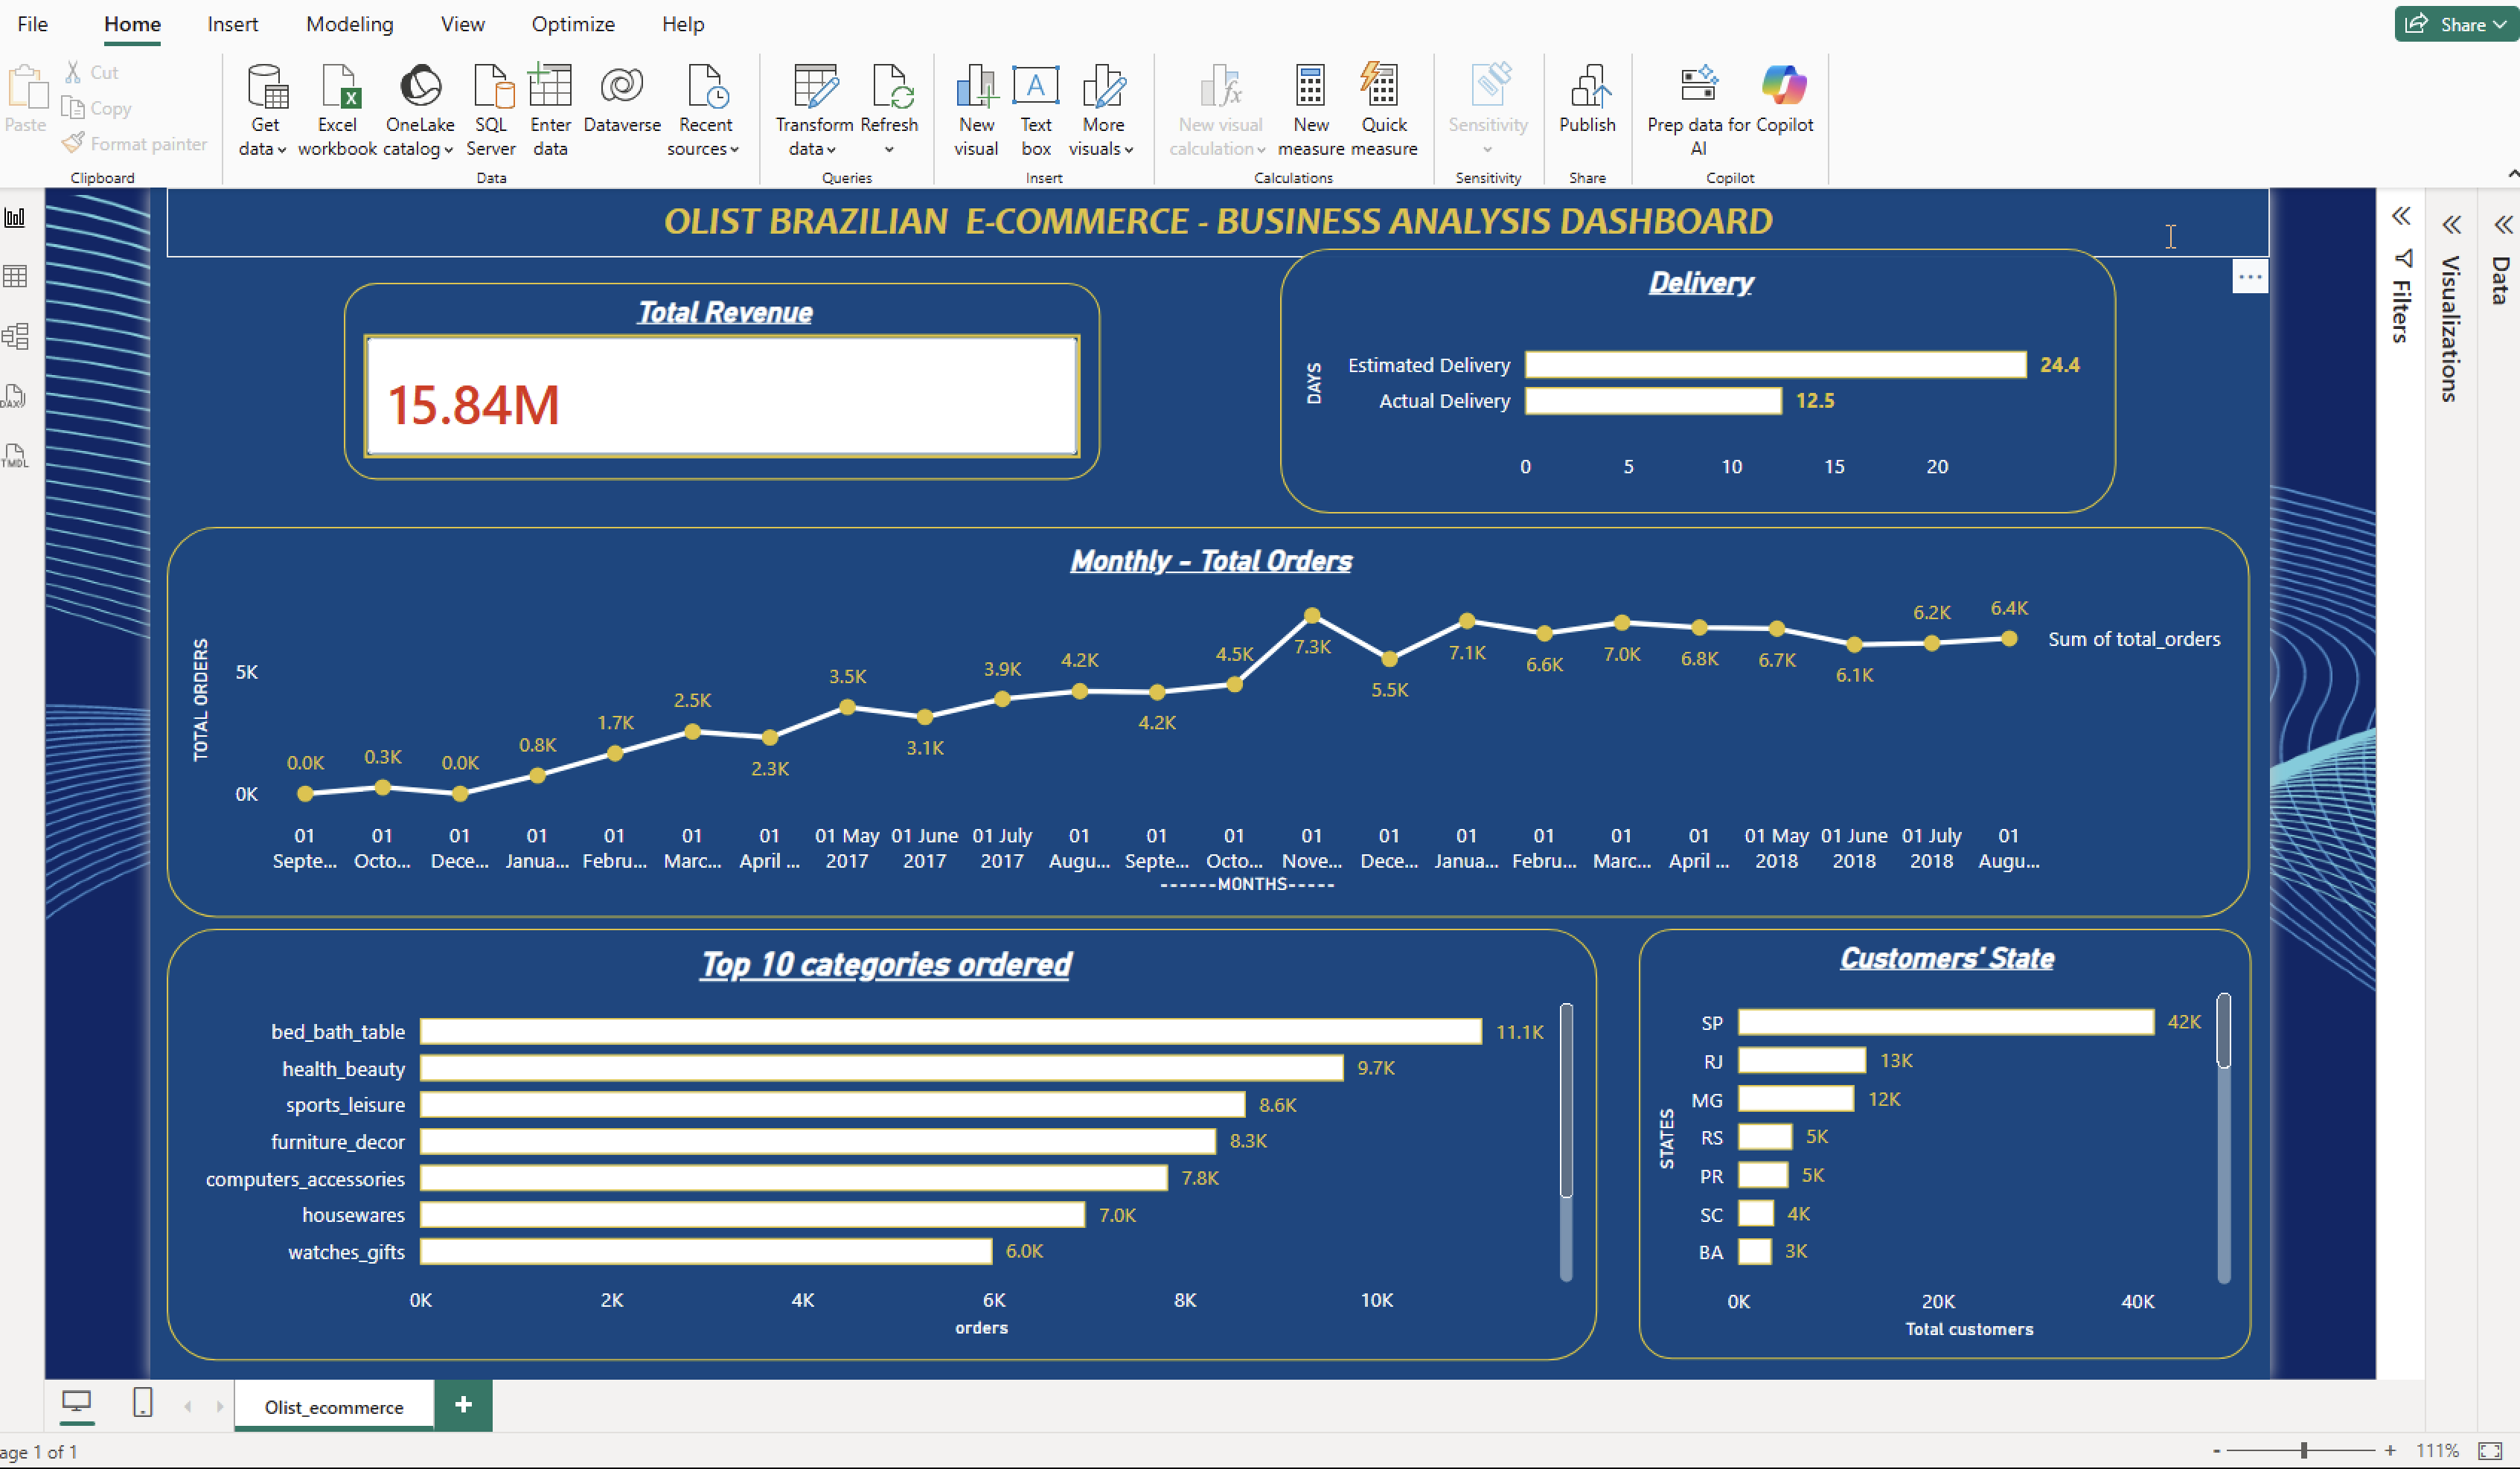

The dashboard page shown, as its layout file describes it:
{"tool":"powerbi","page":{"name":"Olist_ecommerce","canvas":[1280,720],"ordinal":0},"visuals":[{"type":"textbox","box":[10,0,1270.2,42.7],"z":0},{"type":"clusteredBarChart","title":"Top 10 categories ordered","fields":{"Category":["category.category_english"],"Y":["Sum(category.total_order)"]},"box":[9.9,448,864.5,261.4],"z":1000},{"type":"lineChart","title":"Monthly - Total Orders","fields":{"Y":["Sum(months.total_orders)"],"Category":["months.months"]},"box":[9.9,204.6,1258.4,236.2],"z":2000},{"type":"clusteredBarChart","title":"Delivery","fields":{"Category":["delivery.Metric"],"Y":["Sum(delivery.Days)"]},"box":[682.2,36.9,505.2,160],"z":3000},{"type":"clusteredBarChart","title":"Customers'' State","fields":{"Category":["states.customer_state"],"Y":["Sum(states.total_customers)"]},"box":[898.7,448,369.6,259.6],"z":4000},{"type":"cardVisual","title":"Total Revenue","fields":{"Data":["Sum(REVENUE.total_revenue)"]},"box":[117.2,57.7,457,119],"z":5000}]}

Visuals, with their boxes on the page's 1280x720 design canvas (x1, y1, x2, y2). These are canvas units, not pixel positions in the 2520x1469 screenshot, which may show the page scaled, cropped or inside an application window:
textbox: x1=10, y1=0, x2=1280, y2=43
"Top 10 categories ordered" clusteredBarChart: x1=10, y1=448, x2=874, y2=709
"Monthly - Total Orders" lineChart: x1=10, y1=205, x2=1268, y2=441
"Delivery" clusteredBarChart: x1=682, y1=37, x2=1187, y2=197
"Customers'' State" clusteredBarChart: x1=899, y1=448, x2=1268, y2=708
"Total Revenue" cardVisual: x1=117, y1=58, x2=574, y2=177
